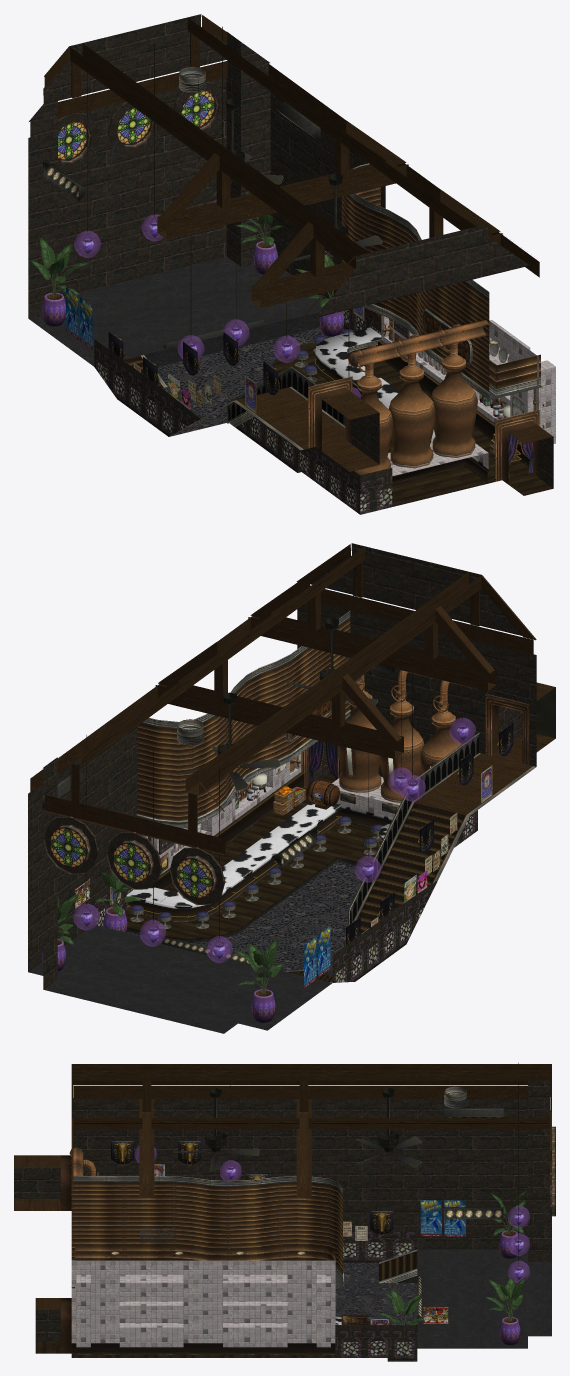
File: MilkBar.obj
The picture shows the model from 3 angles, top to bottom: view 1: azimuth 30°, elevation 25°; view 2: azimuth 150°, elevation 25°; view 3: azimuth 270°, elevation 25°; orthographic projection. The views are drawn at different scales.
Visible parts, largest first — view 1: node-03A48E15_geom-03A48E15, node-03C4ABCC_geom-03C4ABCC, node-00FF8584_geom-00FF8584, node-030D38E8_geom-030D38E8, node-014B2C3B_geom-014B2C3B, node-00C8FEBE_geom-00C8FEBE, node-03A335F6_geom-03A335F6, node-00BCE5AD_geom-00BCE5AD, node-00B58D5A_geom-00B58D5A, node-013A5BA8_geom-013A5BA8, node-0348C725_geom-0348C725, node-0261F82A_geom-0261F82A (+12 smaller); view 2: node-03C4ABCC_geom-03C4ABCC, node-014B2C3B_geom-014B2C3B, node-00FF8584_geom-00FF8584, node-030D38E8_geom-030D38E8, node-03A48E15_geom-03A48E15, node-03A335F6_geom-03A335F6, node-0348C725_geom-0348C725, node-00BCE5AD_geom-00BCE5AD, node-0261F82A_geom-0261F82A, node-03309DED_geom-03309DED, node-00C8FEBE_geom-00C8FEBE, node-013A5BA8_geom-013A5BA8 (+14 smaller); view 3: node-03C4ABCC_geom-03C4ABCC, node-014B2C3B_geom-014B2C3B, node-00B58D5A_geom-00B58D5A, node-00FF8584_geom-00FF8584, node-03A48E15_geom-03A48E15, node-030D38E8_geom-030D38E8, node-00C8FEBE_geom-00C8FEBE, node-03A335F6_geom-03A335F6, node-0261F82A_geom-0261F82A, node-0037E6EE_geom-0037E6EE, node-0348C725_geom-0348C725, node-0171B980_geom-0171B980 (+15 smaller).
Part boxes in pixels (left/top/right/bottom): node-03A48E15_geom-03A48E15: left=28, top=14, right=336, bottom=318; node-03C4ABCC_geom-03C4ABCC: left=44, top=17, right=553, bottom=471; node-00FF8584_geom-00FF8584: left=308, top=187, right=544, bottom=484; node-030D38E8_geom-030D38E8: left=29, top=256, right=324, bottom=366; node-014B2C3B_geom-014B2C3B: left=314, top=149, right=553, bottom=488; node-00C8FEBE_geom-00C8FEBE: left=94, top=289, right=392, bottom=514; node-03A335F6_geom-03A335F6: left=157, top=327, right=344, bottom=435; node-00BCE5AD_geom-00BCE5AD: left=273, top=342, right=553, bottom=506; node-00B58D5A_geom-00B58D5A: left=381, top=315, right=555, bottom=476; node-013A5BA8_geom-013A5BA8: left=44, top=15, right=334, bottom=124; node-0348C725_geom-0348C725: left=315, top=327, right=529, bottom=483; node-0261F82A_geom-0261F82A: left=140, top=163, right=542, bottom=450; node-03C4ABCC_geom-03C4ABCC: left=81, top=544, right=555, bottom=814; node-014B2C3B_geom-014B2C3B: left=93, top=543, right=555, bottom=896; node-00FF8584_geom-00FF8584: left=137, top=618, right=529, bottom=841; node-030D38E8_geom-030D38E8: left=28, top=925, right=332, bottom=1033; node-03A48E15_geom-03A48E15: left=28, top=757, right=93, bottom=989; node-03A335F6_geom-03A335F6: left=126, top=861, right=364, bottom=975; node-0348C725_geom-0348C725: left=126, top=777, right=393, bottom=922; node-00BCE5AD_geom-00BCE5AD: left=125, top=773, right=381, bottom=938; node-0261F82A_geom-0261F82A: left=126, top=611, right=535, bottom=982; node-03309DED_geom-03309DED: left=151, top=772, right=465, bottom=981; node-00C8FEBE_geom-00C8FEBE: left=93, top=810, right=477, bottom=982; node-013A5BA8_geom-013A5BA8: left=30, top=731, right=225, bottom=854; node-03C4ABCC_geom-03C4ABCC: left=14, top=1064, right=551, bottom=1309; node-014B2C3B_geom-014B2C3B: left=14, top=1098, right=417, bottom=1341; node-00B58D5A_geom-00B58D5A: left=71, top=1260, right=335, bottom=1347; node-00FF8584_geom-00FF8584: left=60, top=1147, right=342, bottom=1353; node-03A48E15_geom-03A48E15: left=417, top=1080, right=551, bottom=1261; node-030D38E8_geom-030D38E8: left=417, top=1249, right=551, bottom=1348; node-00C8FEBE_geom-00C8FEBE: left=335, top=1226, right=417, bottom=1361; node-03A335F6_geom-03A335F6: left=335, top=1262, right=417, bottom=1324; node-0261F82A_geom-0261F82A: left=71, top=1176, right=417, bottom=1288; node-0037E6EE_geom-0037E6EE: left=154, top=1164, right=465, bottom=1324; node-0348C725_geom-0348C725: left=71, top=1316, right=341, bottom=1354; node-0171B980_geom-0171B980: left=417, top=1086, right=503, bottom=1318.
Bounding box in the file's own units: 10.88 × 10.52 × 23.26.
Materials: 26 (26 with a texture image).
